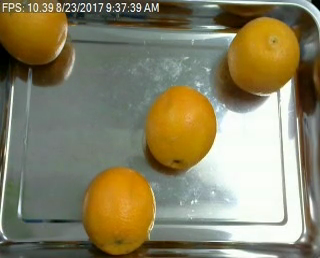Orange: (81, 166, 156, 253), (145, 87, 217, 169), (228, 16, 300, 93)
